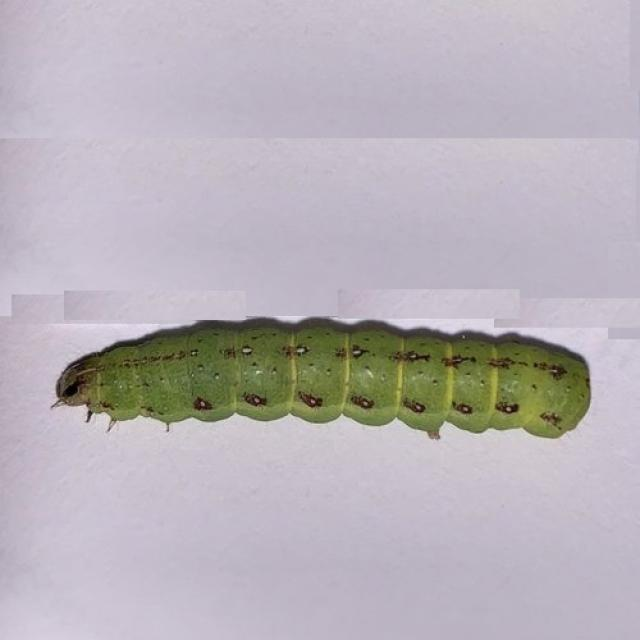Cutworm: (49, 307, 600, 473)
